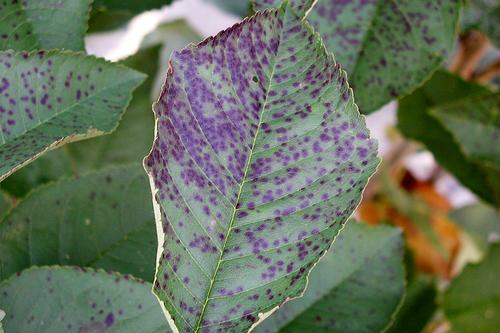black-spot: (257, 75, 350, 217)
